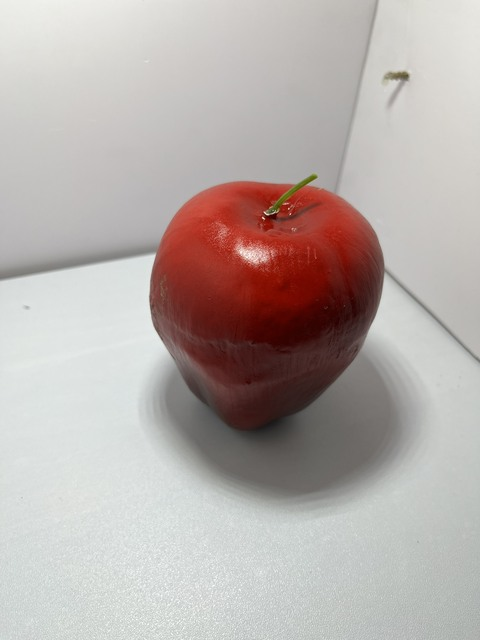Tao: (141, 179, 393, 439)
